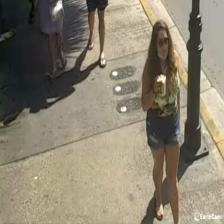person: (141, 20, 179, 224)
